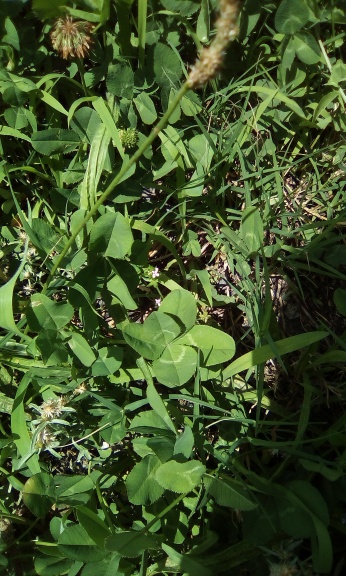4leaf: (121, 289, 237, 390)
